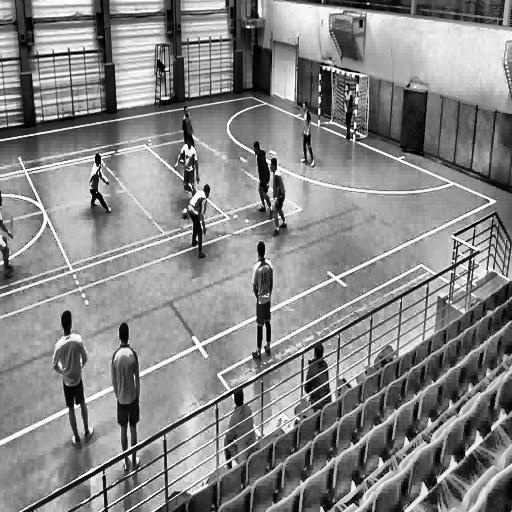ball: (182, 207, 189, 221)
player: (52, 309, 94, 449), (112, 324, 141, 474), (251, 242, 274, 359), (224, 390, 255, 470), (302, 342, 332, 412), (252, 139, 274, 220), (270, 158, 289, 239), (190, 185, 210, 260), (89, 154, 112, 216), (175, 135, 199, 194), (0, 188, 15, 280), (300, 101, 316, 170), (343, 82, 355, 143), (182, 104, 194, 148)
